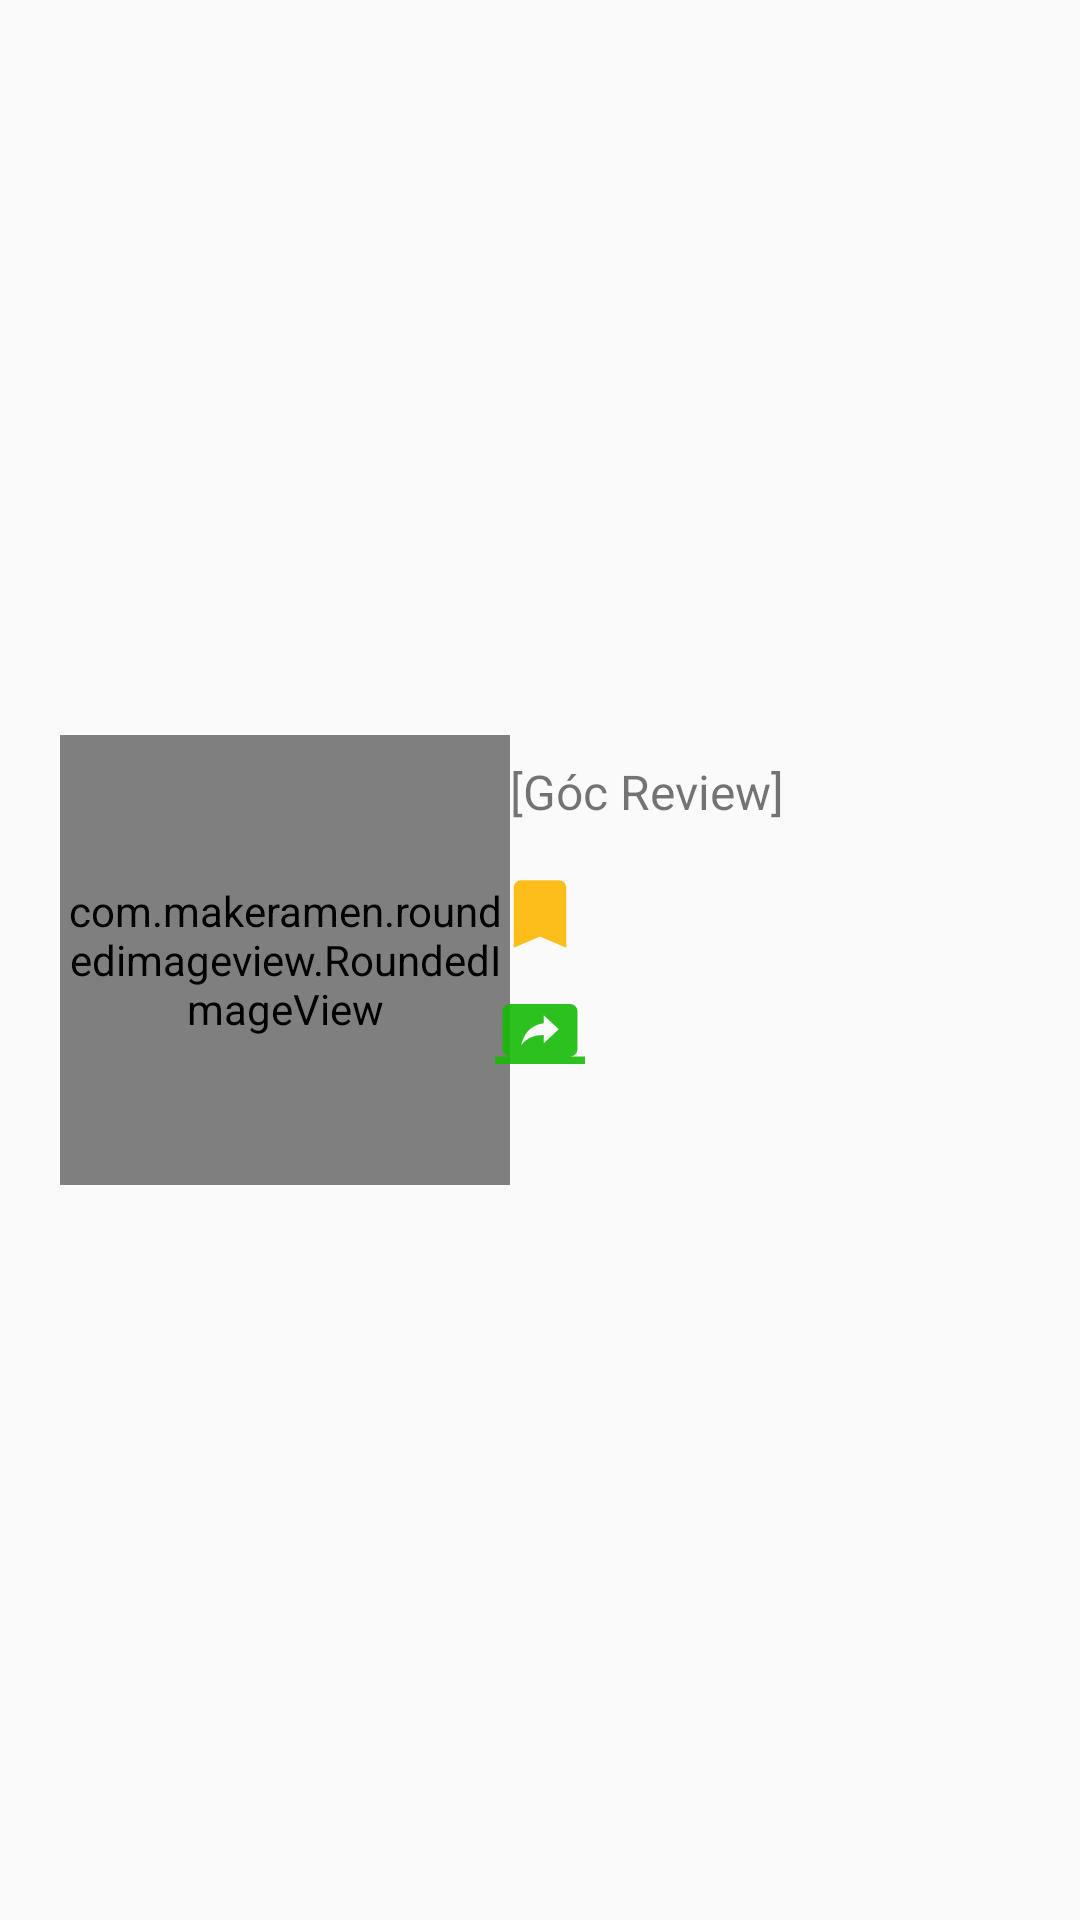

Screen size 1080x1920. Icon name, then its center in pixels as (x,y):
screen share: (540,1034)
